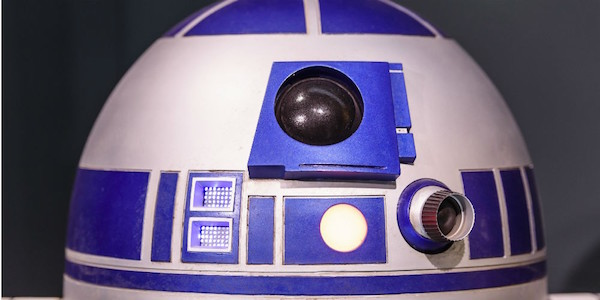r2d2: (65, 3, 549, 297)
